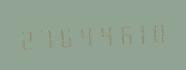four: (74, 20, 92, 50), (93, 19, 111, 49)
one: (131, 18, 149, 47)
seven: (36, 22, 54, 52)
six: (55, 21, 73, 51), (112, 19, 130, 48)
two: (17, 23, 35, 53)
zero: (150, 17, 168, 46)
